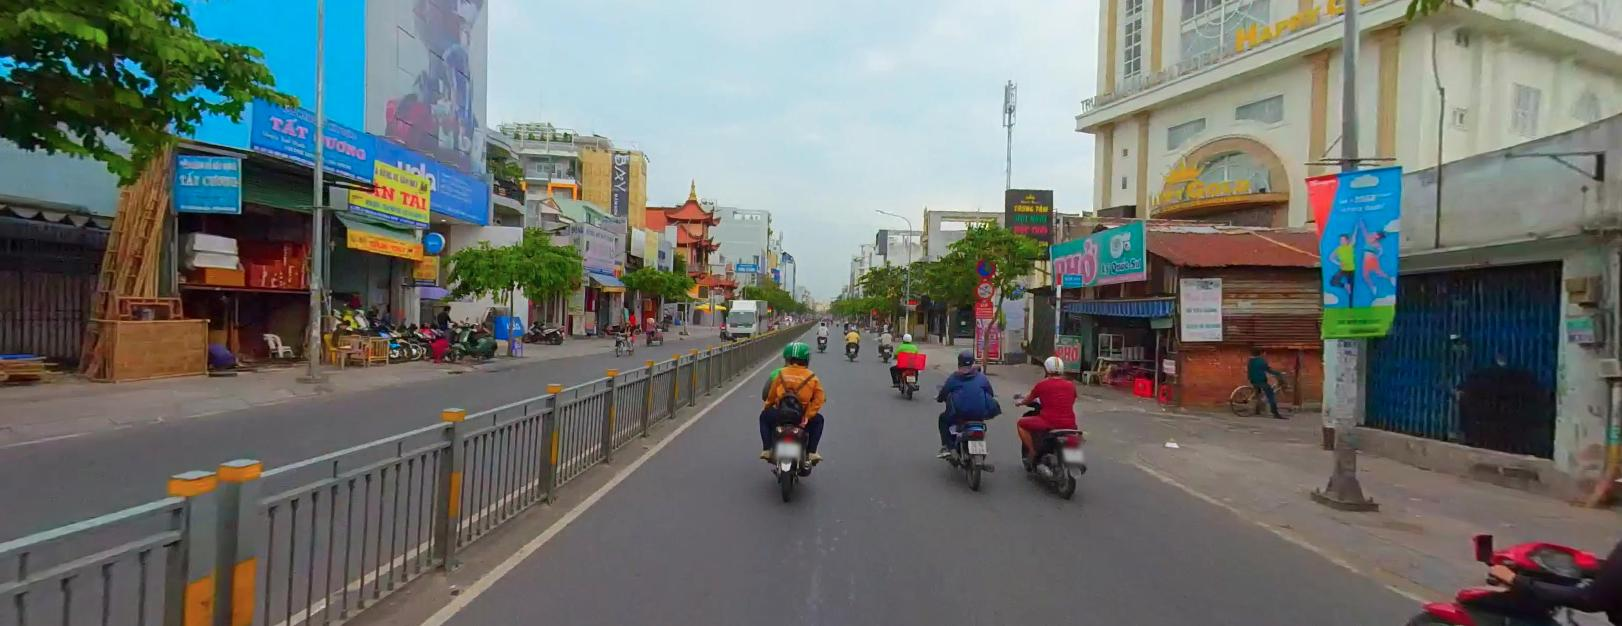Cam con lai: (975, 279, 995, 298)
Cam dung va do: (974, 257, 995, 275)
